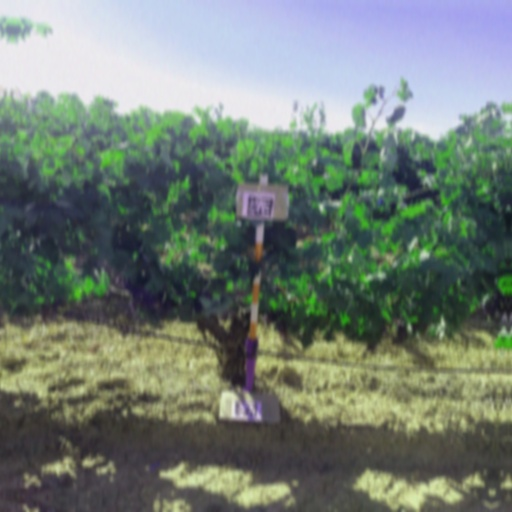QR: (249, 196, 277, 217), (239, 401, 261, 417)
